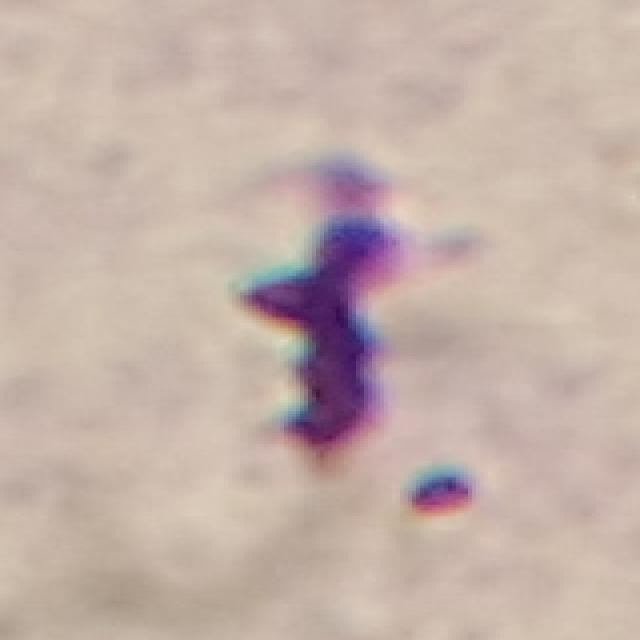non-sperm: (235, 208, 407, 456)
